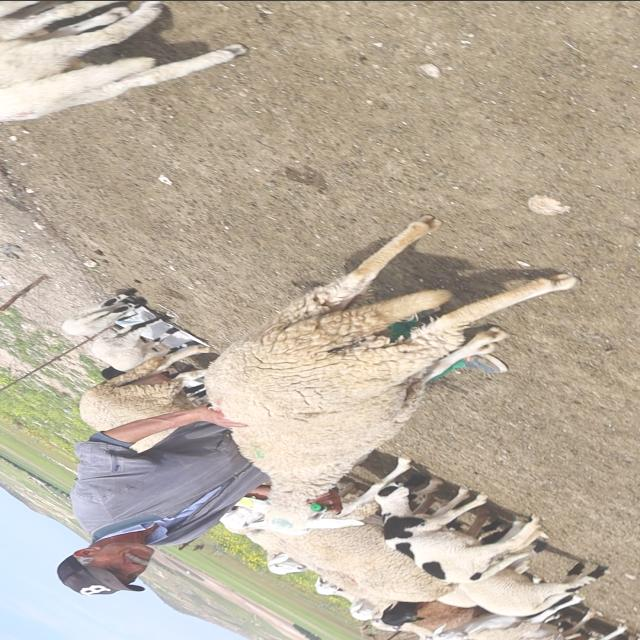Score_2: (205, 215, 579, 534)
